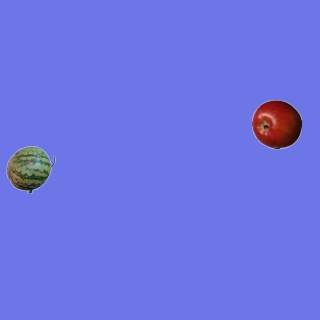Apple Braeburn: (251, 99, 301, 149)
Watermelon: (5, 144, 55, 194)
